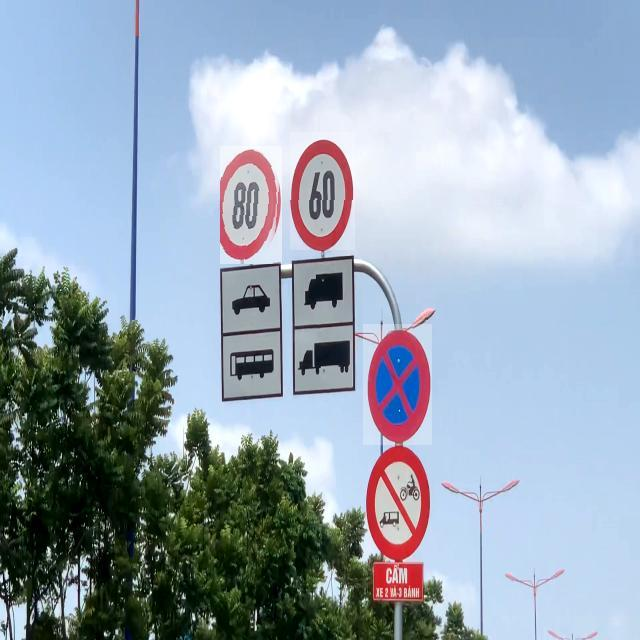P-127: (290, 132, 355, 250), (220, 146, 282, 264)
P-130: (363, 324, 432, 445)
